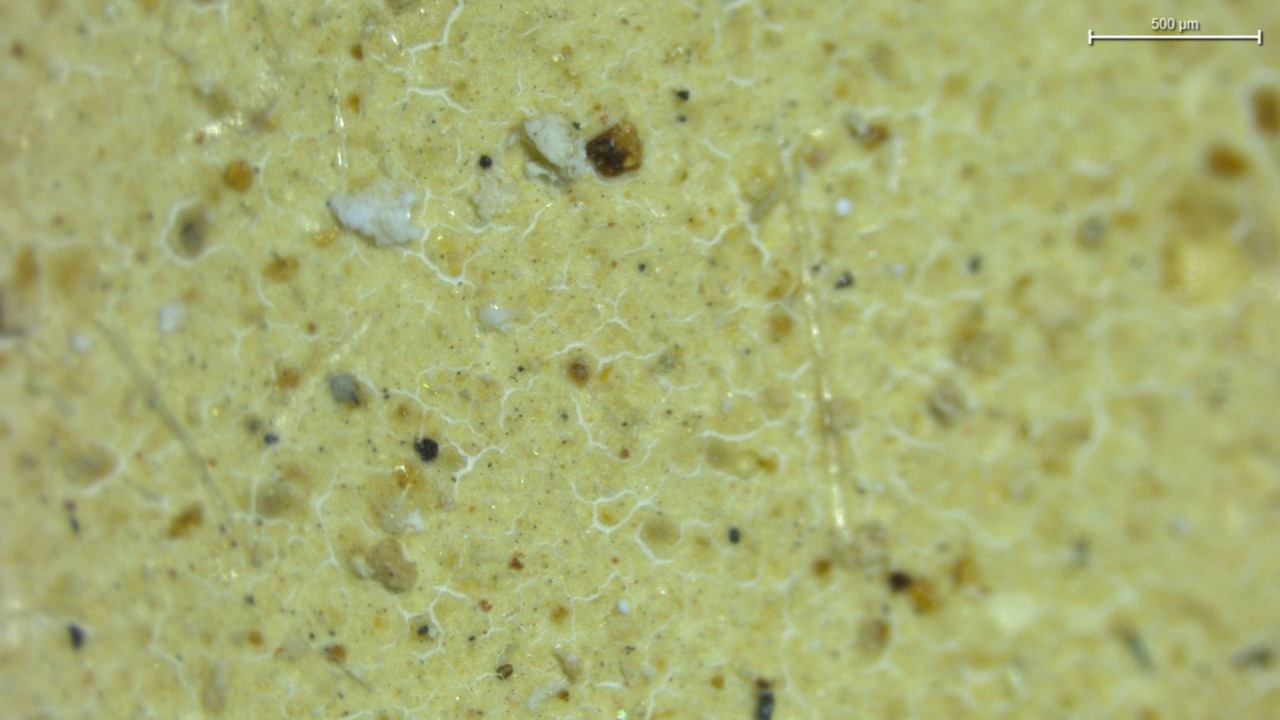microplastic_fragment: (328, 191, 422, 245), (523, 114, 589, 180), (479, 302, 517, 329)
